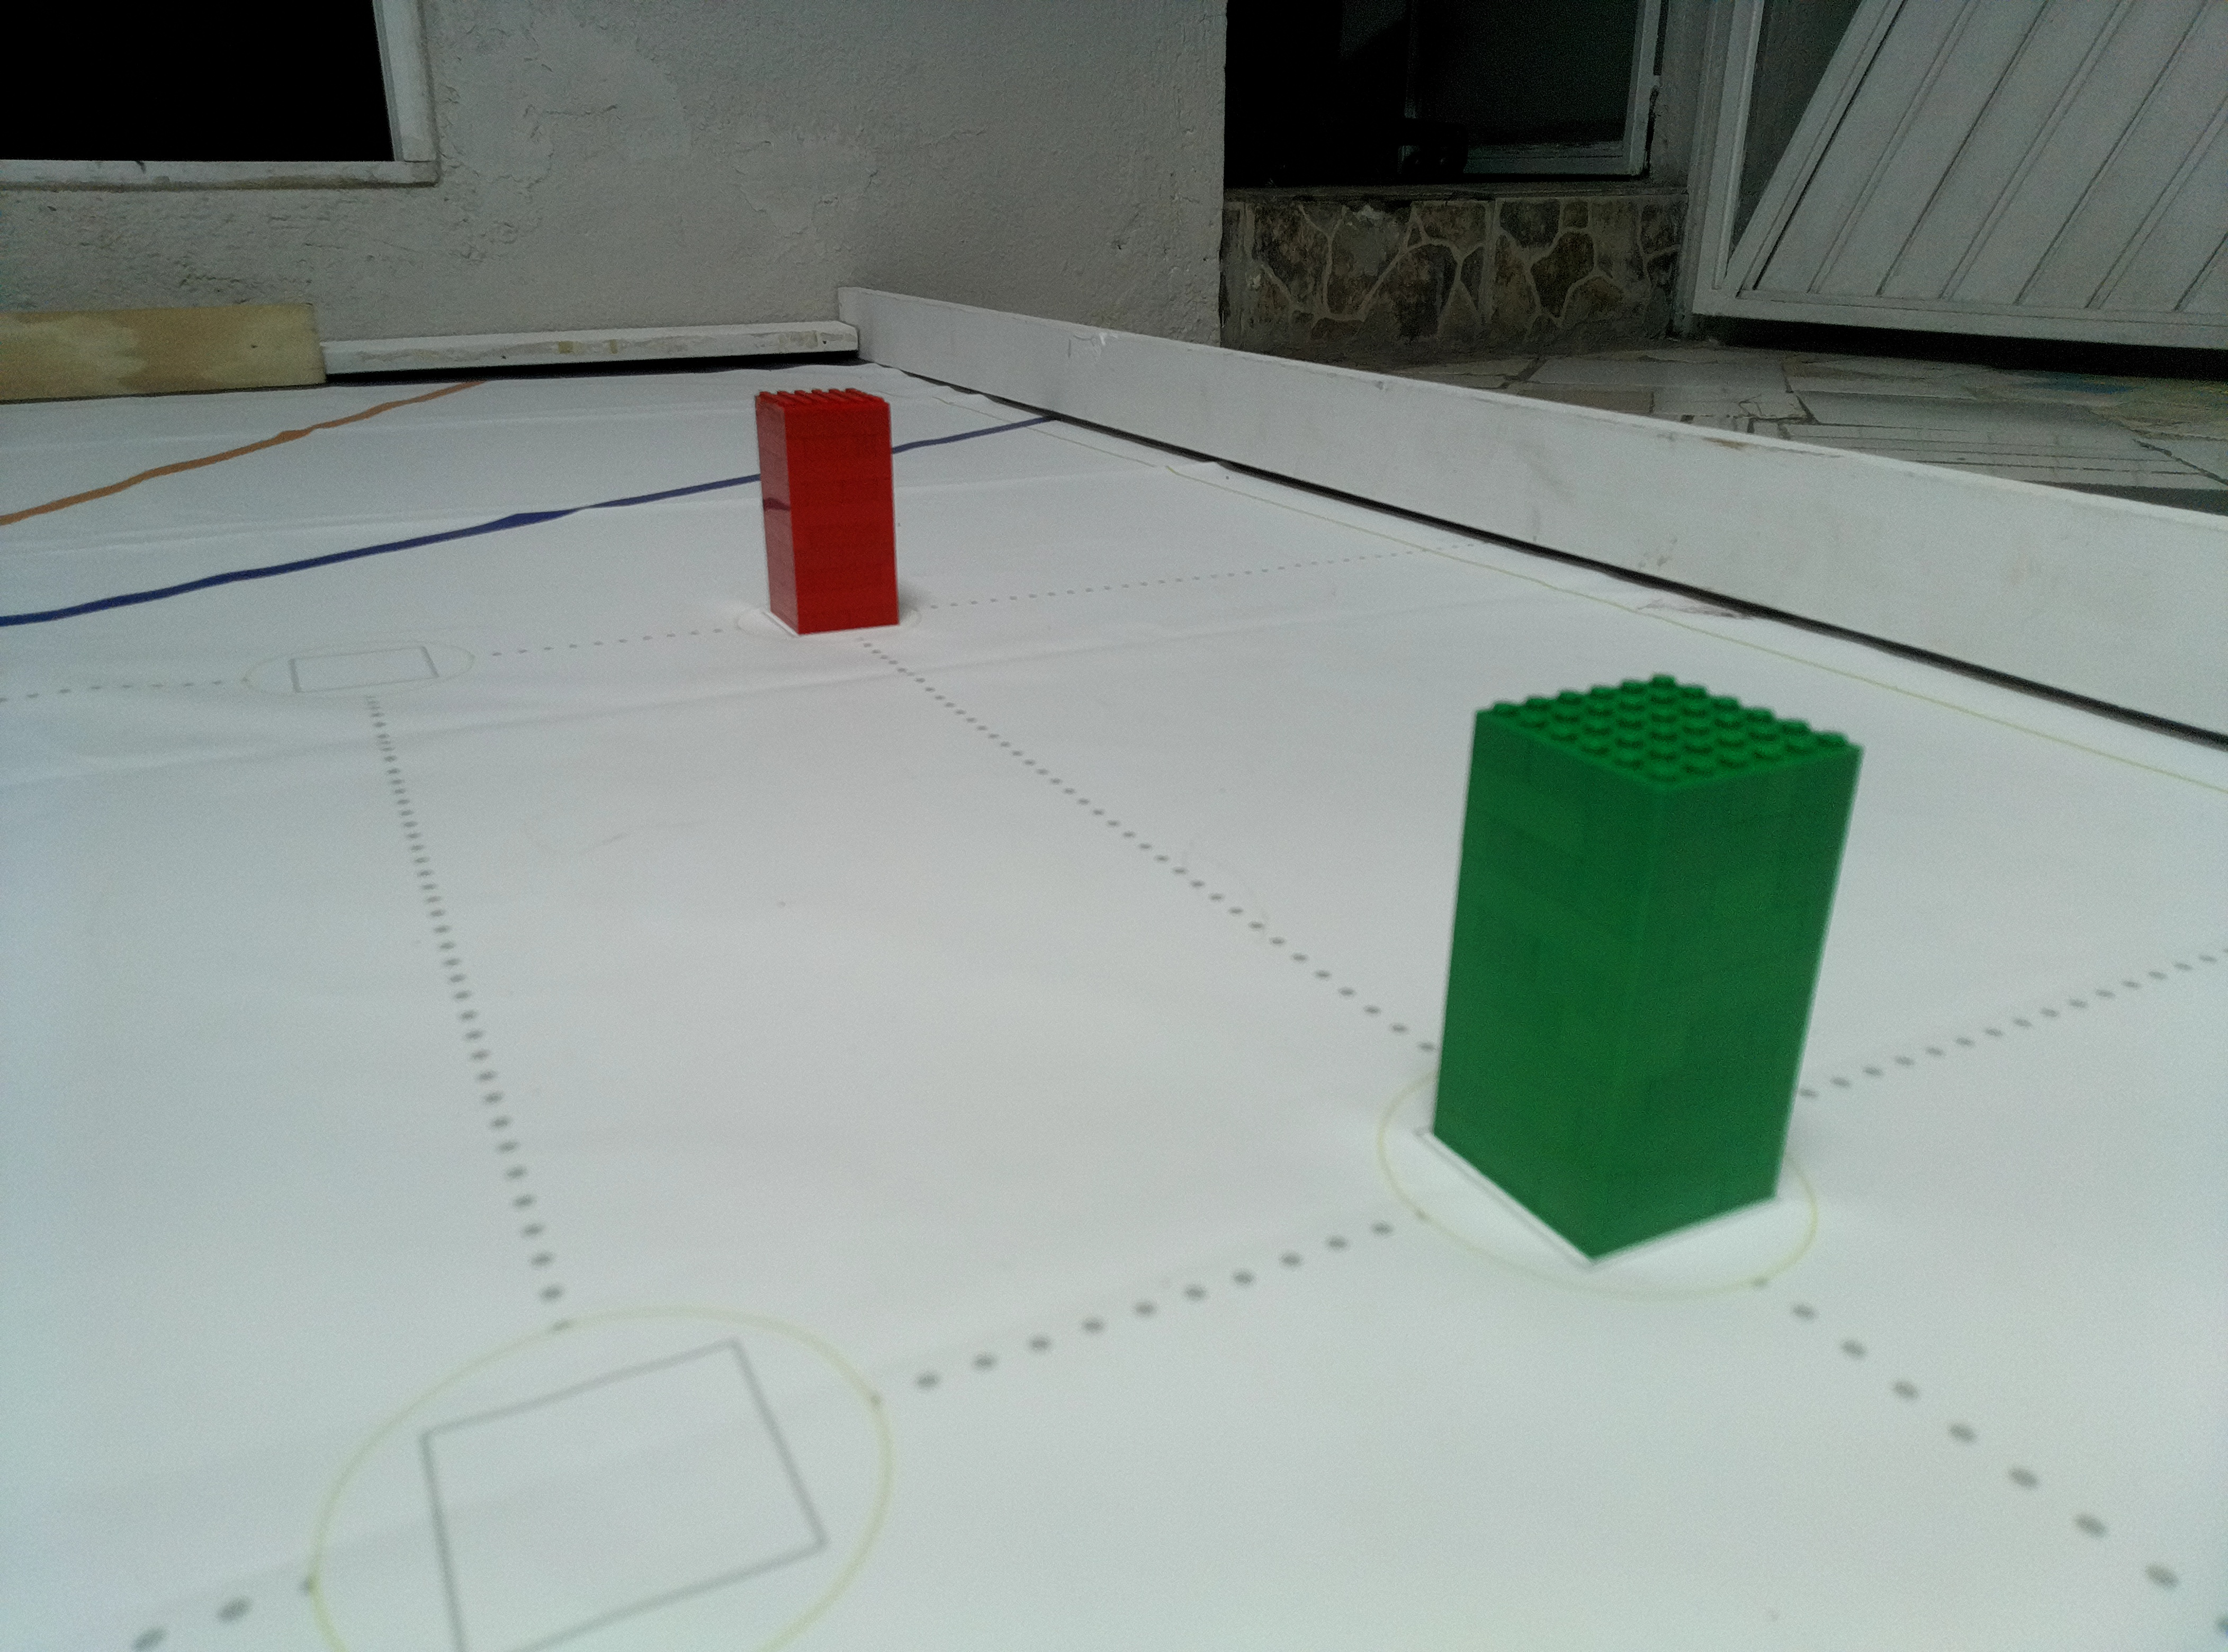greenbox: (1416, 666, 1869, 1268)
redbox: (748, 385, 902, 637)
